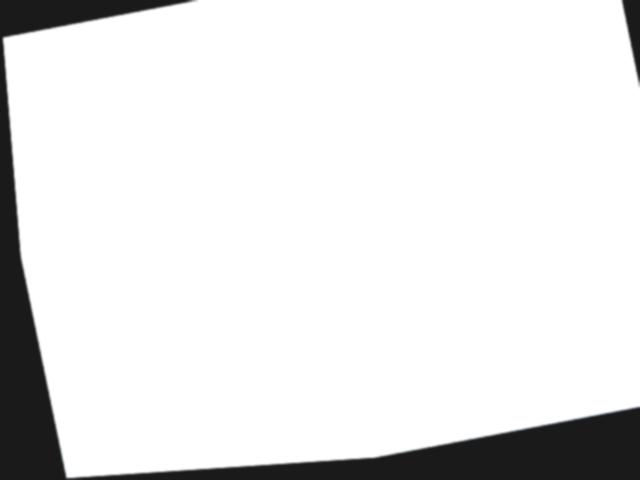iha: (226, 151, 282, 179)
